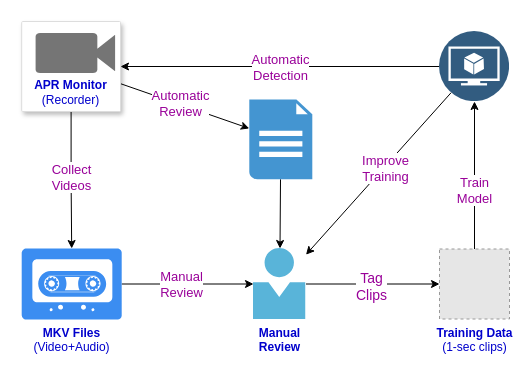
Some shapes in this 532 by 373 pixel diagram are drawn without their labels. Grey dashed boxes stand in for pictures. The centre of each missing label's shape, as x and y in pixels:
"Final Report (& Sav ed MKV)" goes at [280,139].
"Trained Model (& sample)" goes at [474,66].
